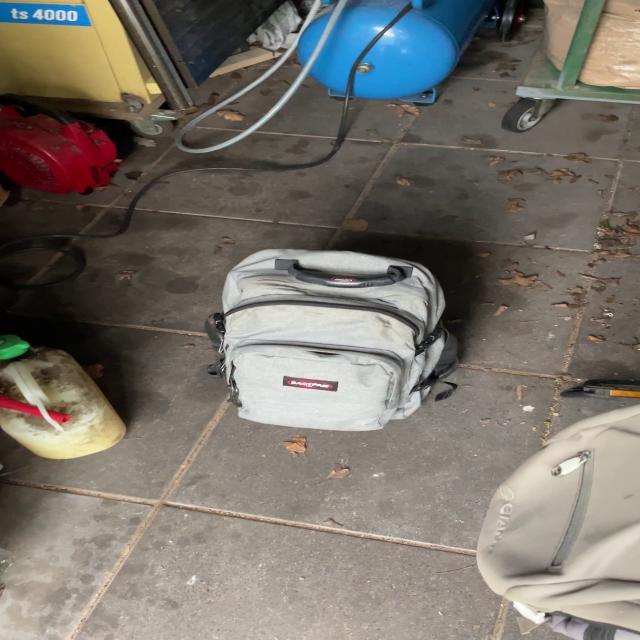backpack: (197, 240, 472, 438)
